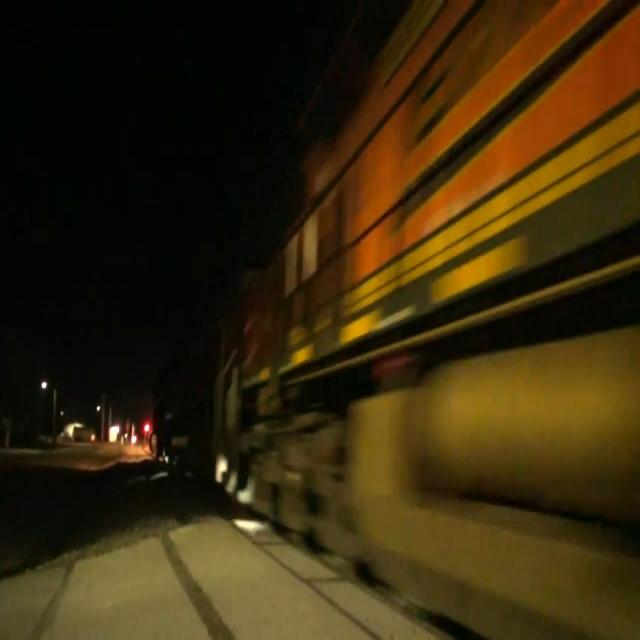locomotive: (213, 0, 640, 640)
